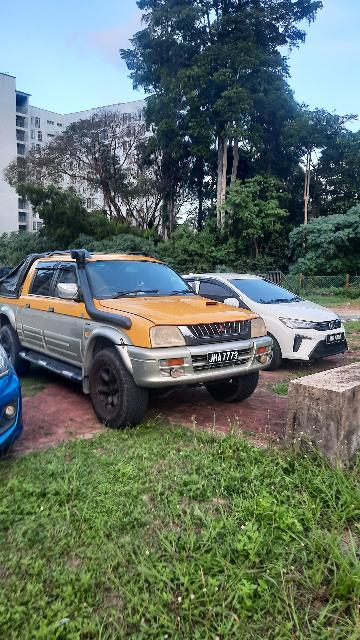License_Plate: (206, 350, 244, 367), (327, 331, 351, 345)
car: (2, 248, 277, 428), (172, 270, 360, 369)
